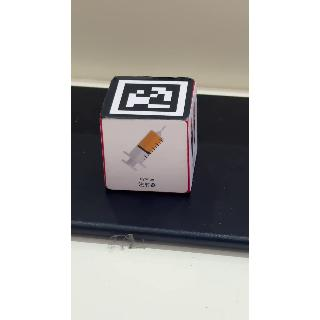Syringe: (102, 118, 190, 195)
